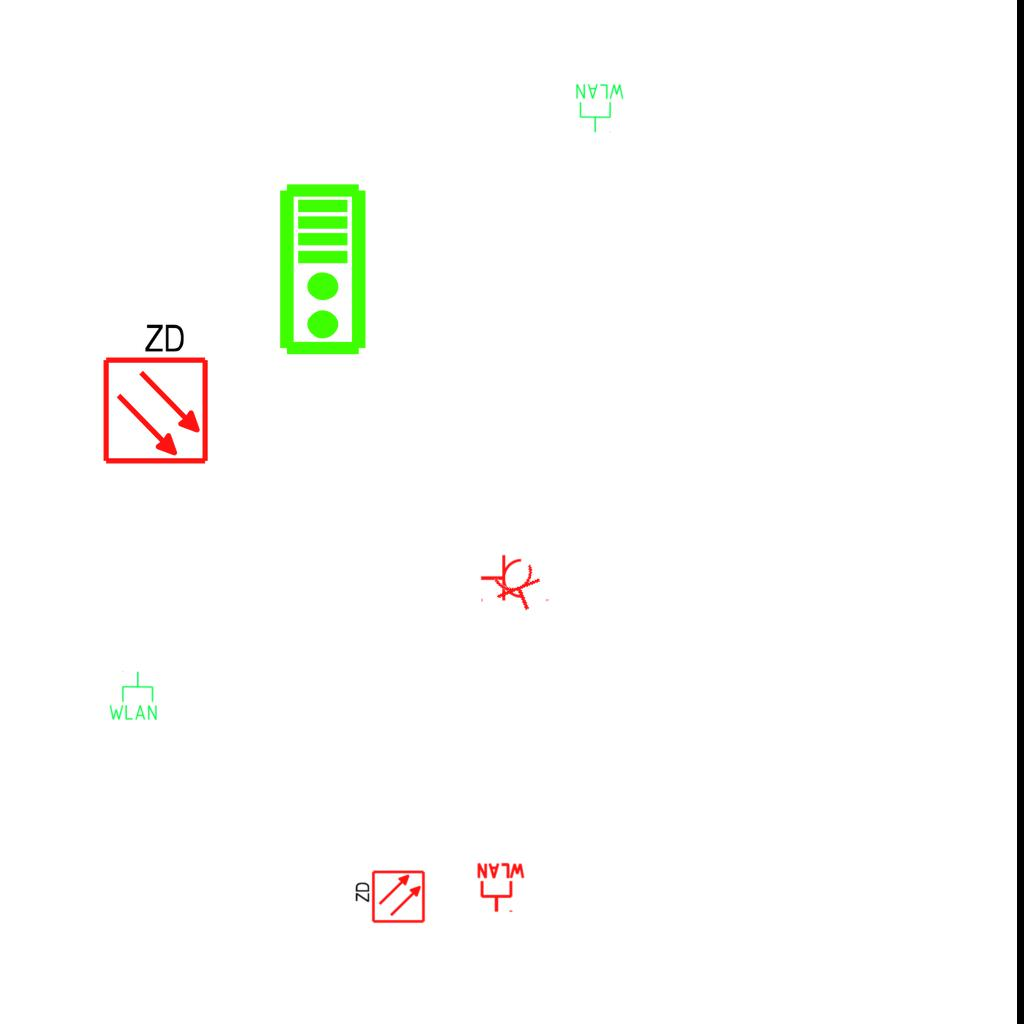Gegensprechanlage_mit_Video: (277, 182, 372, 358)
Schukosteckdose_einfach: (489, 560, 552, 620), (480, 554, 523, 604)
WLAN: (475, 862, 527, 914), (574, 82, 626, 134), (107, 670, 159, 722)
ZD_Melder_in_Zwischendecke_mit_Revisionsoeffnung_mind_40_x_40_cm: (97, 317, 211, 466), (352, 869, 426, 926)
